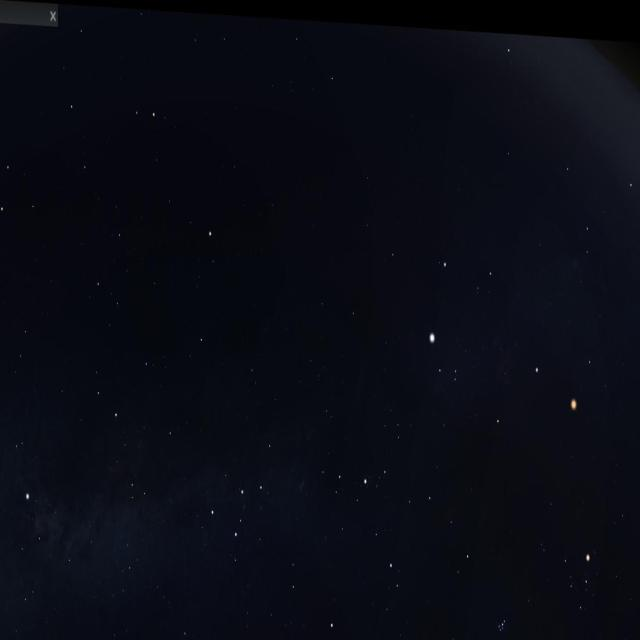cassiopeia: (200, 418, 286, 560)
pleiades: (490, 611, 505, 640)
